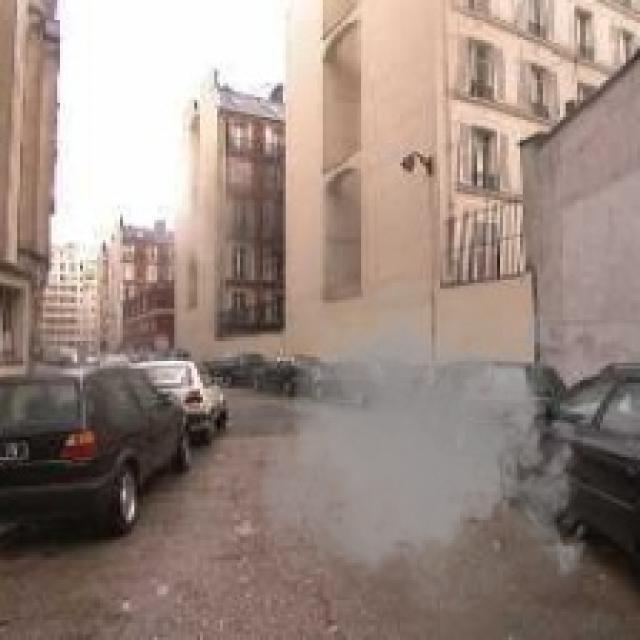smoke: (254, 257, 597, 632)
